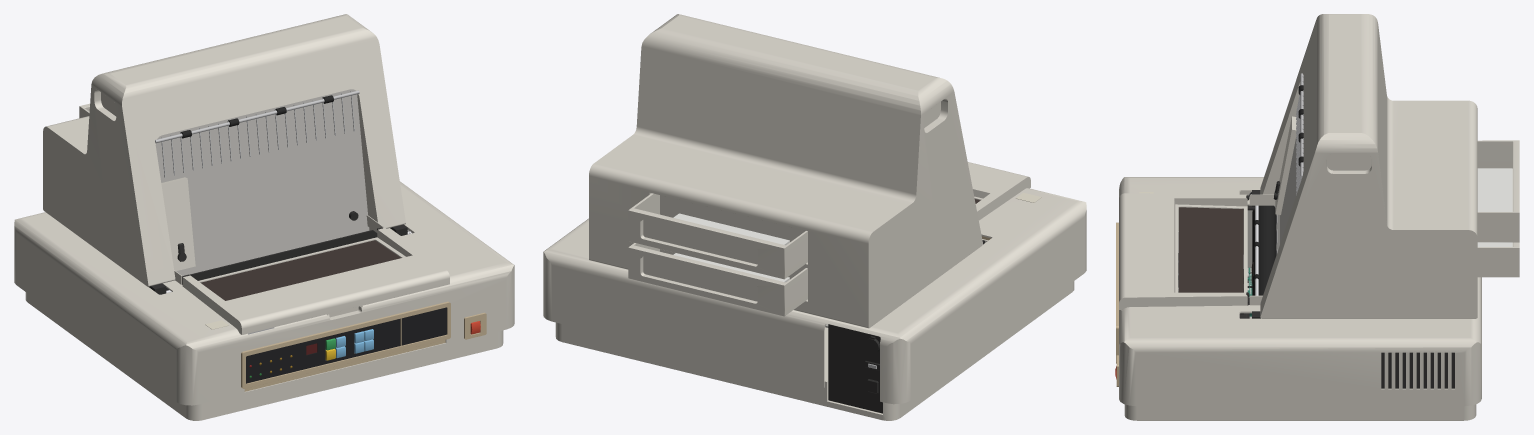
File: wp_printer.glb
The picture shows the model from 3 angles, left to right: view 1: azimuth 30°, elevation 25°; view 2: azimuth 150°, elevation 25°; view 3: azimuth 270°, elevation 25°; orthographic projection. The views are drawn at different scales.
Visible parts, largest first — view 1: printer_feeder, printer_body, printer_cover, printer_panel, printer_frame; view 2: printer_feeder, printer_body, printer_tray1, printer_tray0, printer_cover; view 3: printer_feeder, printer_body, printer_cover, printer_tray1, printer_platen, printer_tray0, printer_frame, printer_bail.
Boxes of the visible parts, <box> form: printer_feeder: <box>43,14,407,294</box>; printer_body: <box>14,181,514,420</box>; printer_cover: <box>182,227,449,334</box>; printer_panel: <box>246,307,446,383</box>; printer_frame: <box>166,230,409,288</box>; printer_feeder: <box>589,14,984,328</box>; printer_body: <box>543,188,1086,420</box>; printer_tray1: <box>628,193,807,279</box>; printer_tray0: <box>628,243,807,316</box>; printer_cover: <box>967,162,1030,220</box>; printer_feeder: <box>1252,14,1477,318</box>; printer_body: <box>1116,177,1481,420</box>; printer_cover: <box>1119,193,1249,309</box>; printer_tray1: <box>1477,140,1519,242</box>; printer_platen: <box>1248,192,1276,295</box>; printer_tray0: <box>1477,242,1519,277</box>; printer_frame: <box>1178,192,1279,318</box>; printer_bail: <box>1254,205,1259,295</box>.
Size of the model in its own units: 0.711 by 0.525 by 0.7192.
